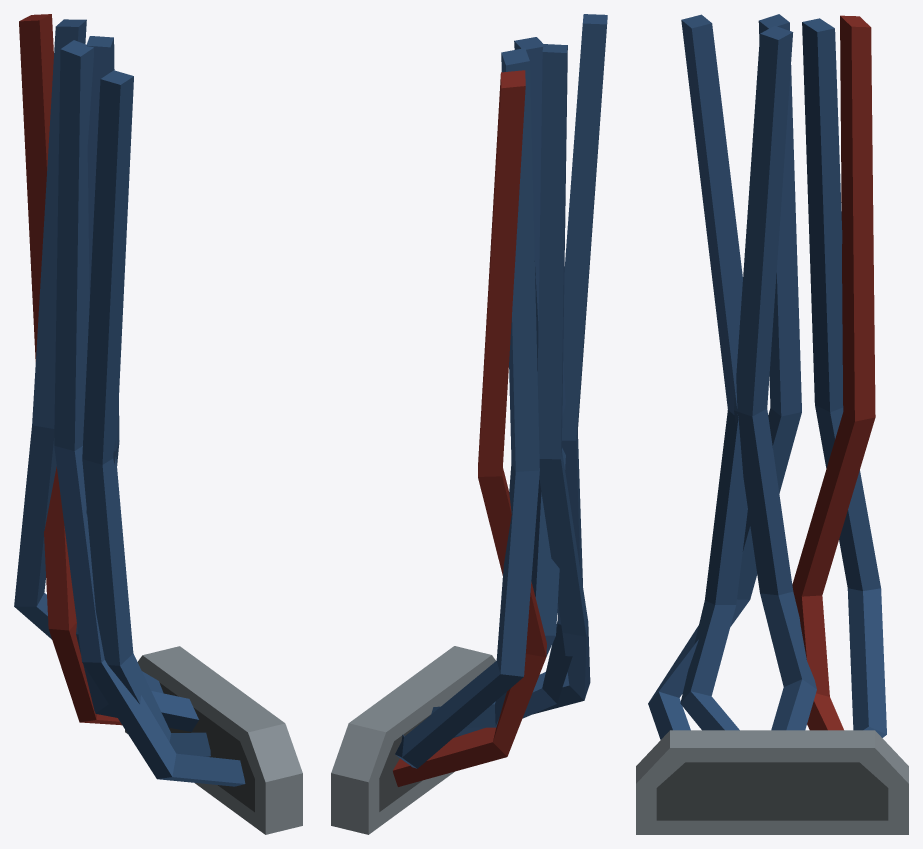
File: SM_Prop_CableTray_01_Cable_End_02.glb
3 renders of one model, left to right at view 1: azimuth 30°, elevation 25°; view 2: azimuth 150°, elevation 25°; view 3: azimuth 270°, elevation 25°, orthographic. The views are drawn at different scales.
Parts seen in each view (by area): view 1: SM_Prop_CableTray_01_Cable_End_02; view 2: SM_Prop_CableTray_01_Cable_End_02; view 3: SM_Prop_CableTray_01_Cable_End_02.
Part boxes in pixels (box(x1,y1,x2,y2)): SM_Prop_CableTray_01_Cable_End_02: box(14, 14, 302, 834); SM_Prop_CableTray_01_Cable_End_02: box(331, 14, 607, 834); SM_Prop_CableTray_01_Cable_End_02: box(636, 14, 908, 834).
Bounding box in the file's own units: 0.2274 × 0.982 × 0.3249.
1 material, 1 textured.
